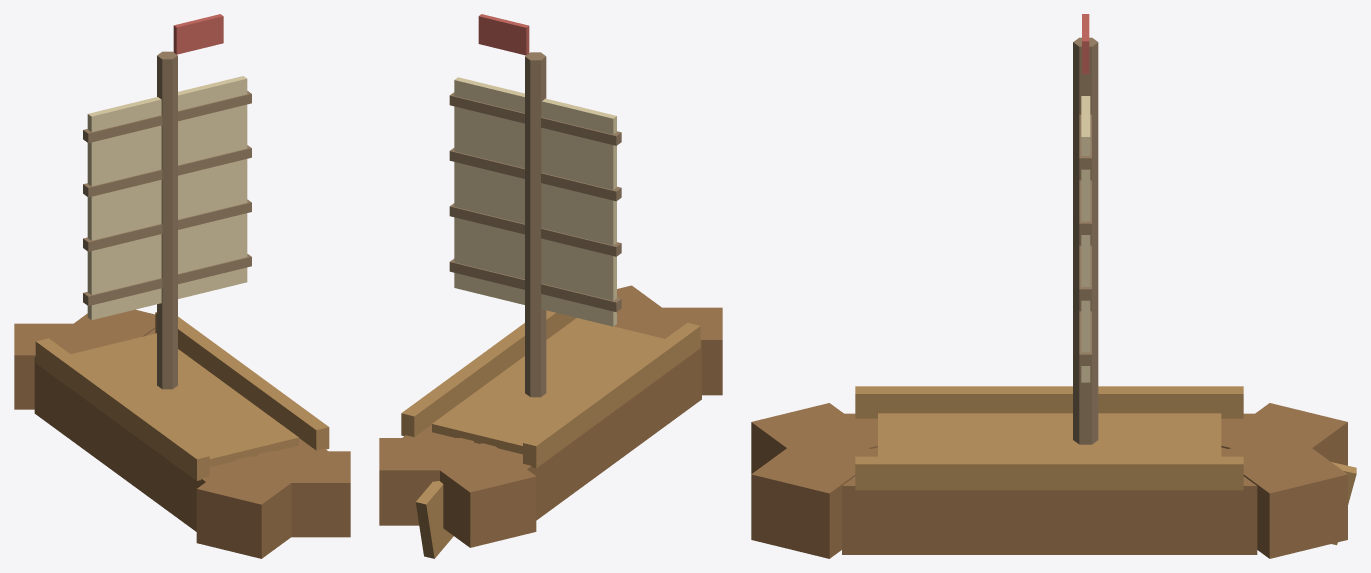
File: troop-small-boat.glb
3 renders of one model, left to right at view 1: azimuth 30°, elevation 25°; view 2: azimuth 150°, elevation 25°; view 3: azimuth 270°, elevation 25°, orthographic. The views are drawn at different scales.
Parts seen in each view (by area): view 1: sail, deck, body, bow_l, bow_r, mast, gunwale_l, gunwale_r, stern_l, stern_r, sail_flag; view 2: sail, deck, body, stern_l, mast, gunwale_l, stern_r, gunwale_r, bow_l, rudder, sail_flag, bow_r; view 3: body, deck, gunwale_r, gunwale_l, stern_r, bow_r, mast, bow_l, stern_l, sail.
Boxes of the visible parts, box(x1,y1,x2,y2) form: sail: box(83, 76, 251, 320); deck: box(71, 333, 298, 467); body: box(34, 329, 327, 531); bow_l: box(196, 456, 291, 558); bow_r: box(258, 451, 350, 537); mast: box(157, 51, 177, 389); gunwale_l: box(35, 338, 209, 480); gunwale_r: box(155, 312, 329, 450); stern_l: box(14, 323, 106, 409); stern_r: box(57, 309, 155, 346); sail_flag: box(173, 14, 223, 54); sail: box(449, 77, 621, 326); deck: box(432, 318, 664, 454); body: box(402, 341, 701, 520); stern_l: box(423, 443, 536, 547); mast: box(525, 52, 546, 397); gunwale_l: box(523, 322, 700, 468); stern_r: box(379, 438, 473, 525); gunwale_r: box(401, 310, 576, 437); bow_l: box(628, 307, 722, 395); rudder: box(415, 481, 453, 558); sail_flag: box(478, 14, 529, 55); bow_r: box(614, 285, 669, 329); body: box(842, 413, 1257, 554); deck: box(878, 413, 1221, 456); gunwale_r: box(855, 456, 1243, 490); gunwale_l: box(855, 386, 1243, 418); stern_r: box(1221, 439, 1347, 558); bow_r: box(751, 434, 877, 558); mast: box(1073, 37, 1098, 444); bow_l: box(751, 403, 877, 473); stern_l: box(1221, 403, 1347, 465); sail: box(1079, 96, 1091, 382).
Bounding box in the file's own units: 0.126 × 0.3255 × 0.3351.
